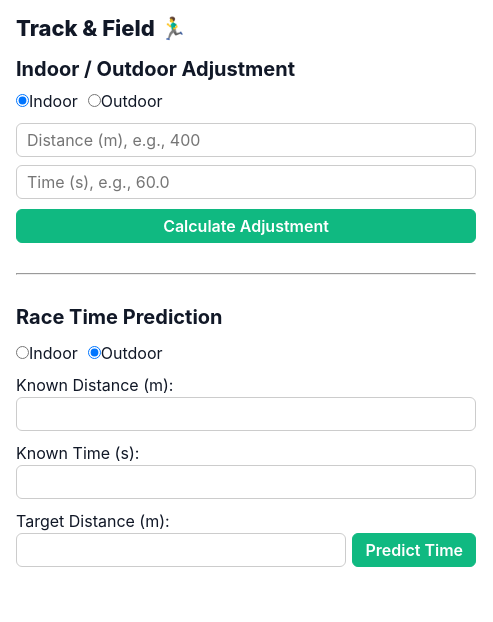
🏃‍♀️ TrackField Component › predicts race time correctly
Type "400" into the 3rd number field at (246,414), box [16,397,476,431]
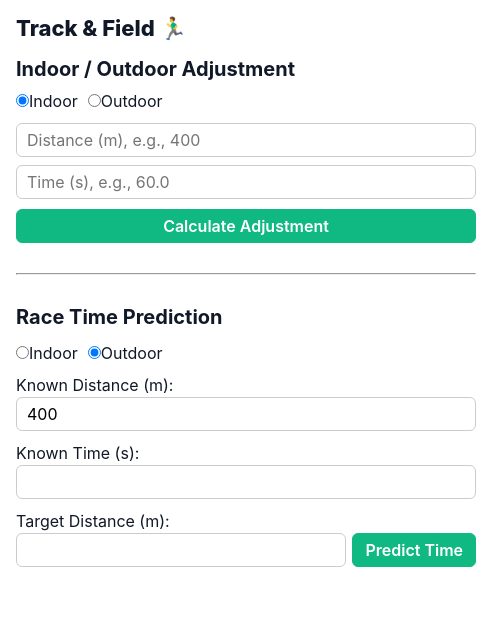
Type "60" into the 4th number field at (246,482), box [16,465,476,499]
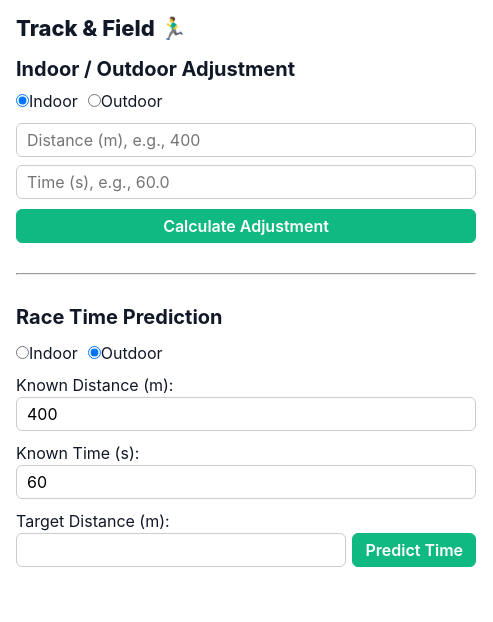
Type "800" into the 5th number field at (181,550), box [16,533,346,567]
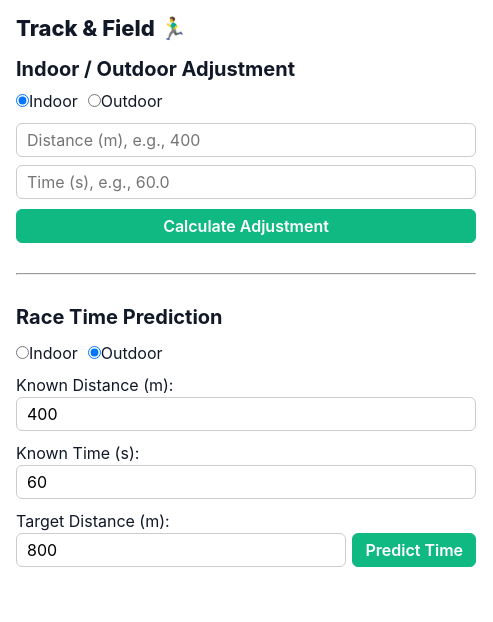
Click the button "Predict Time" at (414,550), box [352,533,476,567]
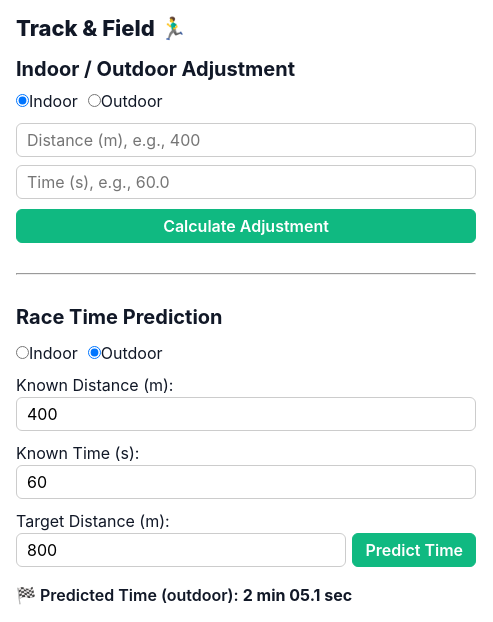
Result: the text "🏁 Predicted Time (outdoor): 2 min 05.1 sec" is shown at [16,585,352,605]
